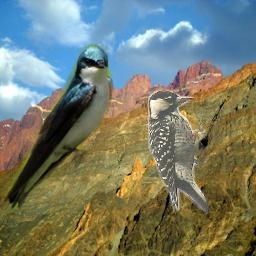Swallow: (1, 43, 115, 215)
Woodpecker: (148, 90, 212, 215)
